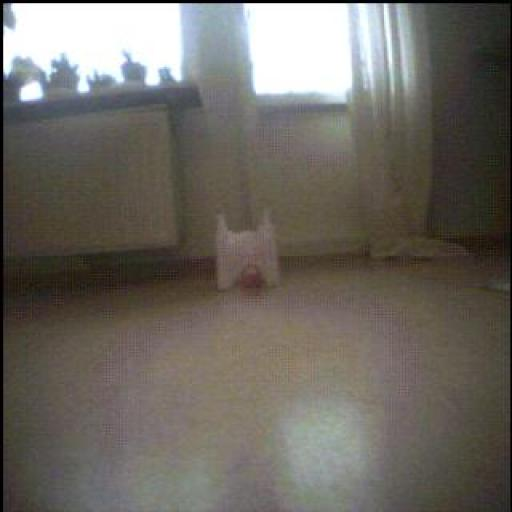Basket: (241, 265, 265, 289)
